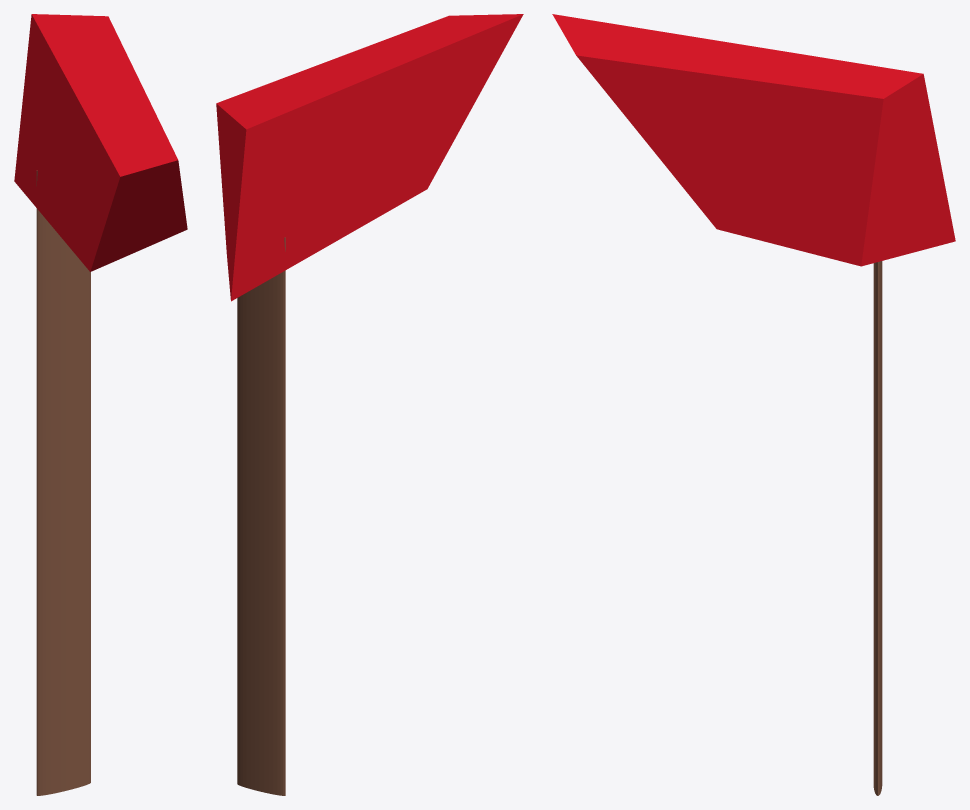
The model's file is weapon2.fbx.
3 renders of one model, left to right at view 1: azimuth 30°, elevation 25°; view 2: azimuth 150°, elevation 25°; view 3: azimuth 270°, elevation 25°, orthographic. The views are drawn at different scales.
Visible parts, largest first — view 1: Cube, Cylinder; view 2: Cube, Cylinder; view 3: Cube, Cylinder.
Boxes of the visible parts, x1,y1,x2,y2 form: Cube: (14,14,187,271); Cylinder: (36,170,90,795); Cube: (216,14,523,301); Cylinder: (237,237,285,795); Cube: (552,14,955,266); Cylinder: (873,261,882,795).
Size of the model in its own units: 193 by 854 by 437.
